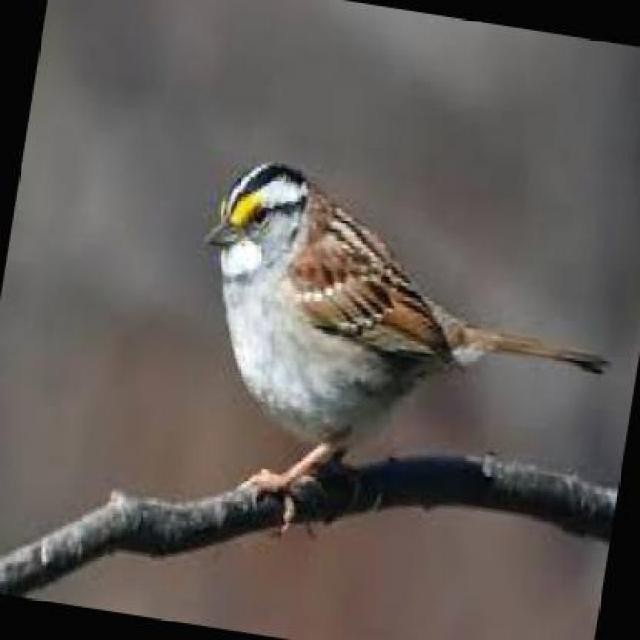Bird: (179, 154, 629, 554)
